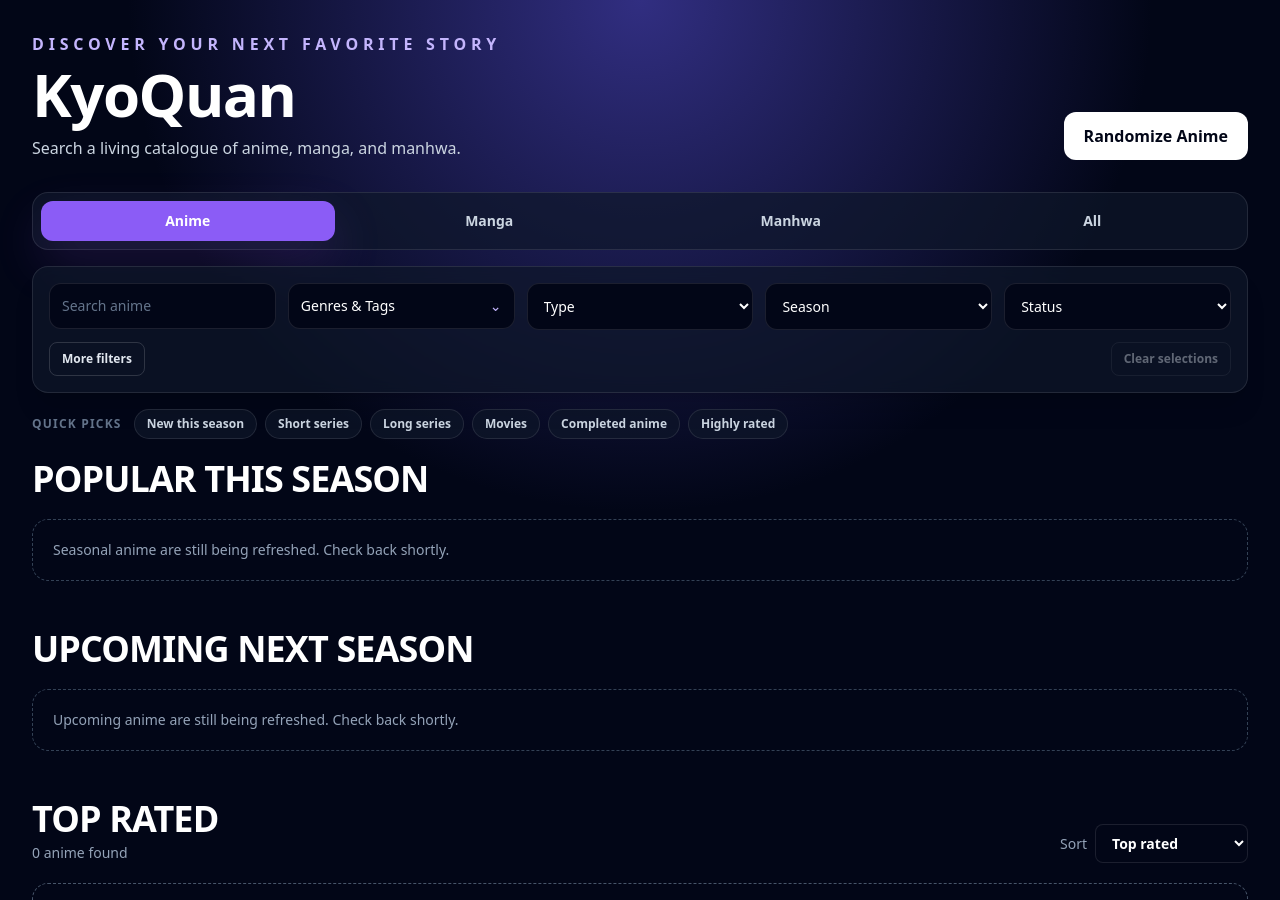
Test: catalogue filter integration › genre and tag exclusions update results, URL state, and selection mode
Click the text "Genres & Tags". click: [348, 306]
box: [301,296,395,316]
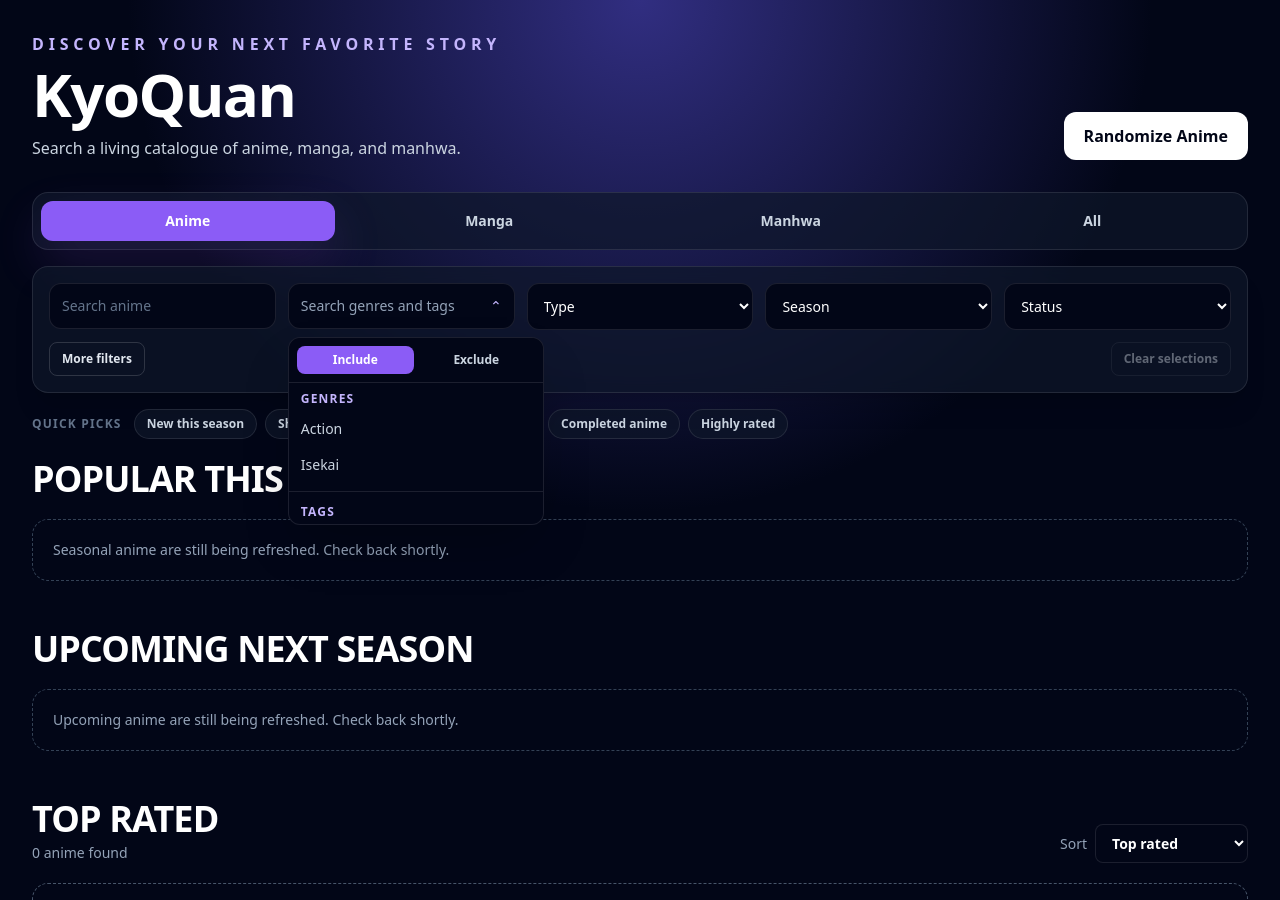
expect the button with aria-label "Include Isekai" is shown: met, box [289,447,543,483]
Click the button "Exclude". click: [476, 360]
box: [418,346,535,374]
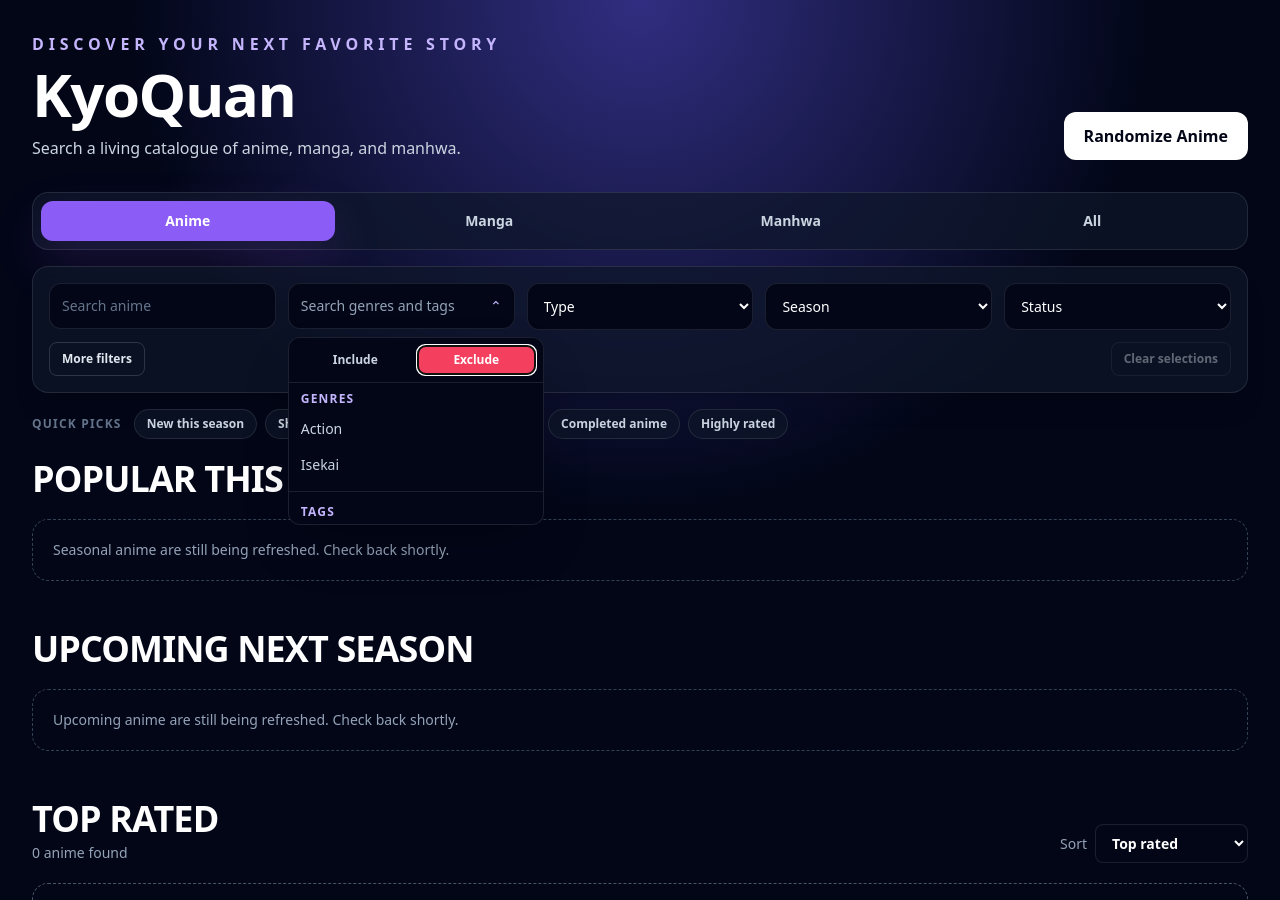
Click the button with aria-label "Exclude Isekai". click: [416, 465]
box: [289,447,543,483]
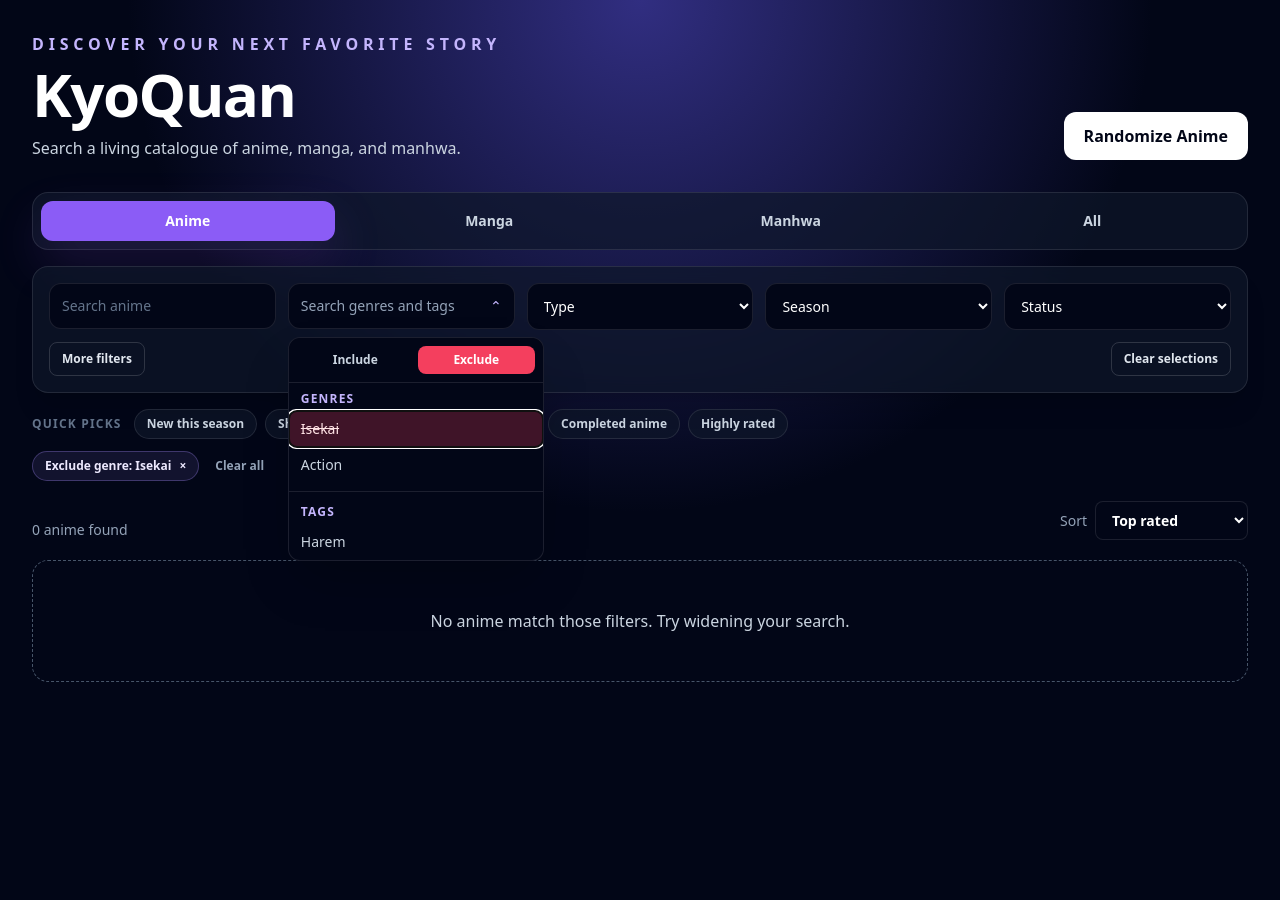
expect the button with aria-label "Exclude Isekai" reads "Isekai": met, box [289,411,543,447]
expect the button "Exclude genre: Isekai ×" is shown: met, box [32,451,199,481]
Click the button "Include". click: [355, 360]
box: [297,346,414,374]
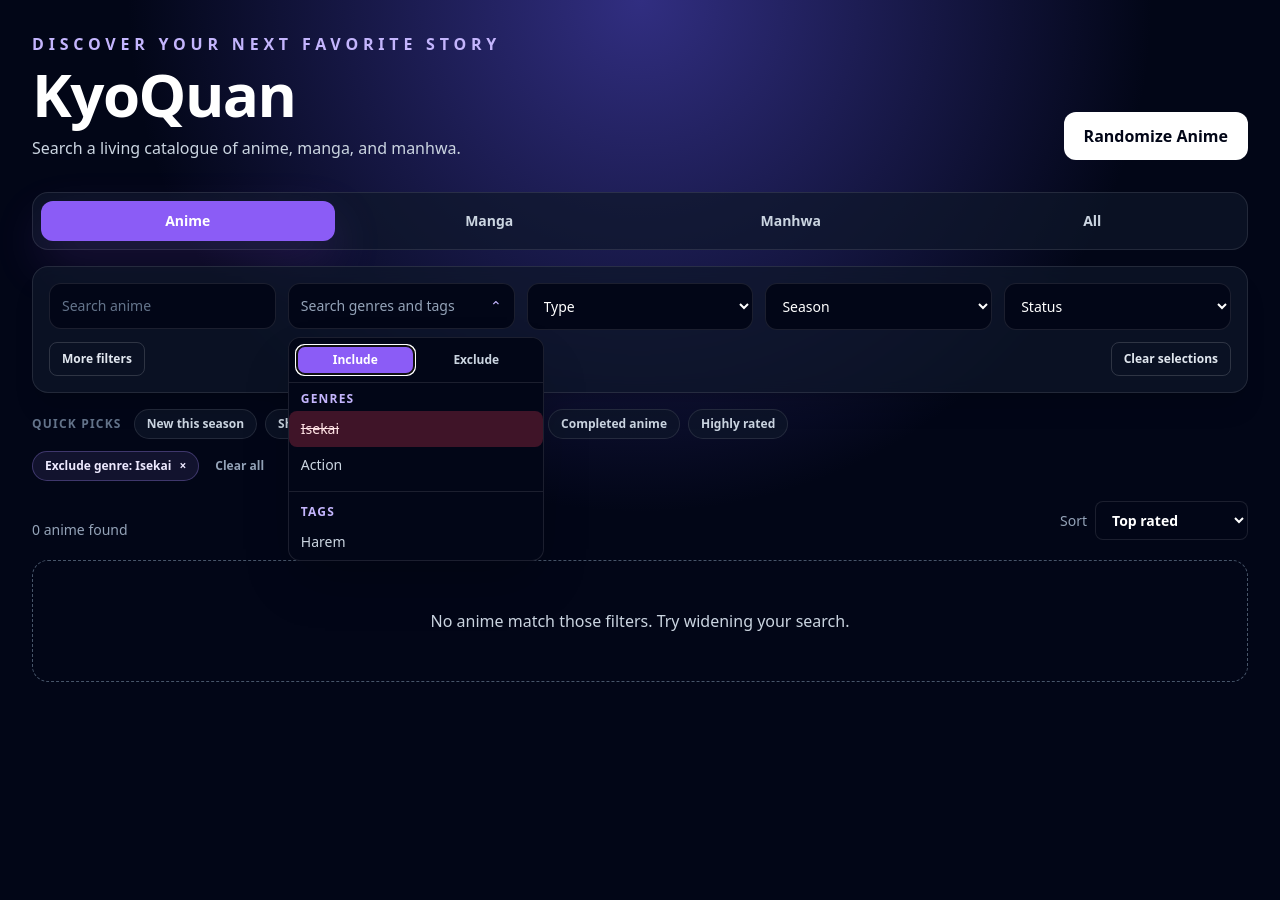
Click the button with aria-label "Include Isekai". click: [416, 429]
box: [289,411,543,447]
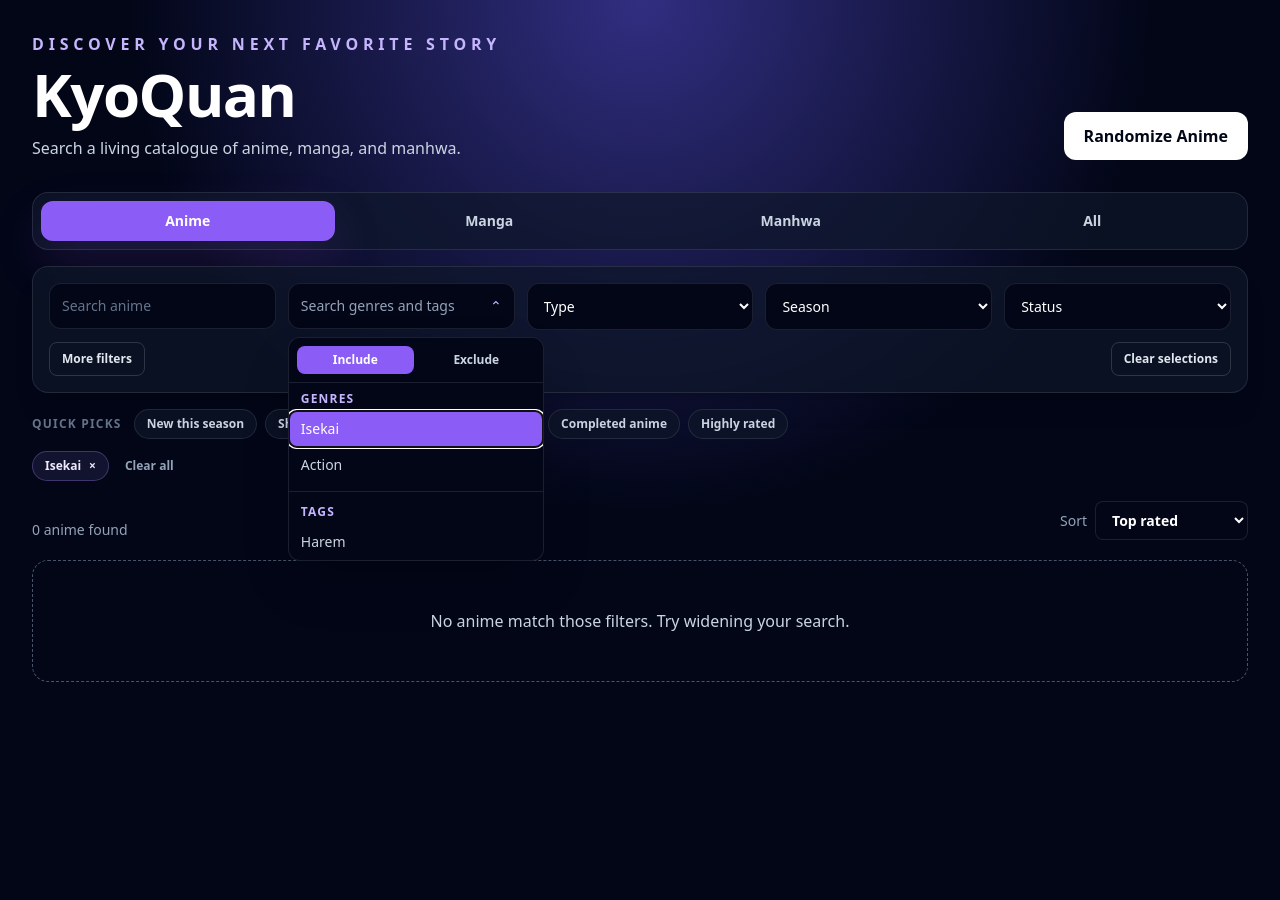
expect the button with aria-label "Include Isekai" reads "Isekai": met, box [289,411,543,447]
expect the button "Exclude genre: Isekai" is gone: met
